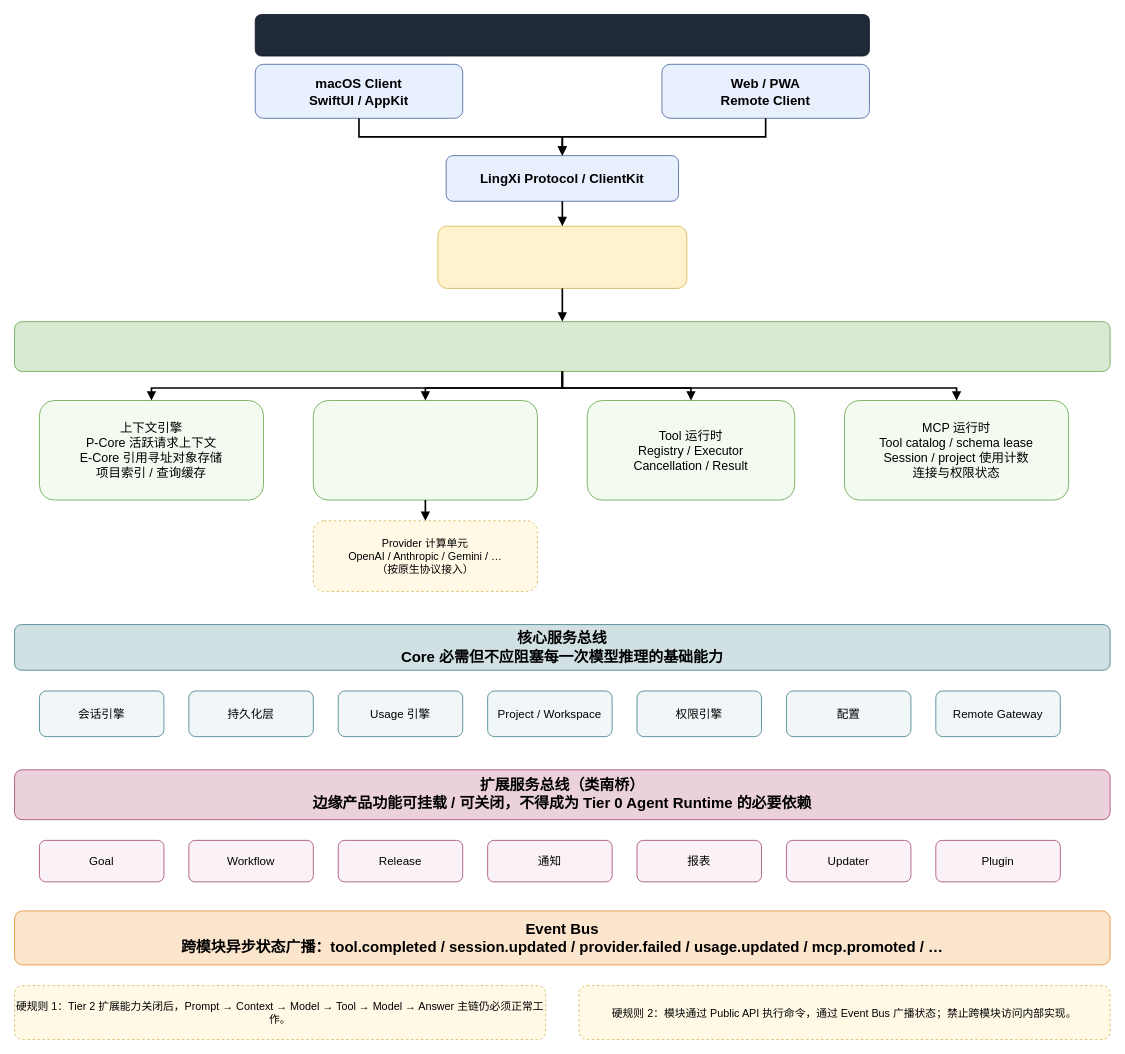
Image size: 1125x1054. Some labels were removed from this diagram. Here are the shapes that lost their labels. From the top down, the centre of each, then its label:
At (x=561, y=35): "LingXiAgent Core 多总线架构".
At (x=562, y=256): "Agent 编排器 调度 / 决策 / 生命周期".
At (x=562, y=346): "模型高速总线（Fast Path / 类 PCIe） 只承载与模型推理、Tool Loop、上下文和 MCP 活跃能力直接相关的低延迟路径".
At (x=424, y=450): "模型网关 Provider Adapter 原生请求 / Streaming Tool 协议转换".
